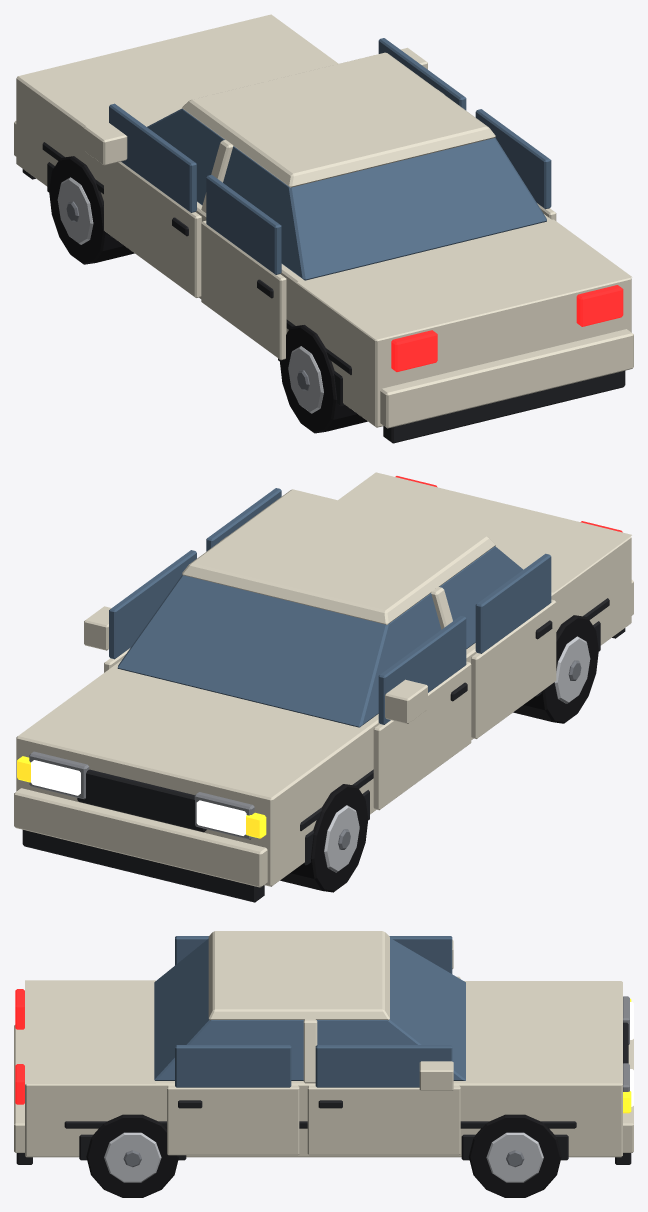
File: car_sedan.glb
3 renders of one model, top to bottom at view 1: azimuth 30°, elevation 25°; view 2: azimuth 150°, elevation 25°; view 3: azimuth 270°, elevation 25°, orthographic. The views are drawn at different scales.
Visible parts, largest first — view 1: car_body, car_door_FL, car_door_RL, car_door_RR, car_door_FR; view 2: car_body, car_door_FL, car_door_RL, car_door_FR, car_door_RR; view 3: car_body, car_door_FR, car_door_RR, car_door_FL, car_door_RL.
Part boxes in pixels (x1,y1,x2,y2): car_body: (14, 14, 633, 443); car_door_FL: (84, 103, 201, 297); car_door_RL: (201, 175, 286, 360); car_door_RR: (475, 109, 556, 220); car_door_FR: (378, 38, 466, 110); car_body: (14, 472, 633, 902); car_door_FL: (373, 616, 471, 810); car_door_RL: (471, 553, 556, 738); car_door_FR: (84, 550, 196, 672); car_door_RR: (206, 488, 281, 551); car_body: (14, 931, 633, 1197); car_door_FR: (307, 1045, 460, 1155); car_door_RR: (167, 1045, 299, 1155); car_door_FL: (389, 936, 460, 978); car_door_RL: (175, 936, 208, 965).
Size of the model in its own units: 2.28 by 1.41 by 4.54.
